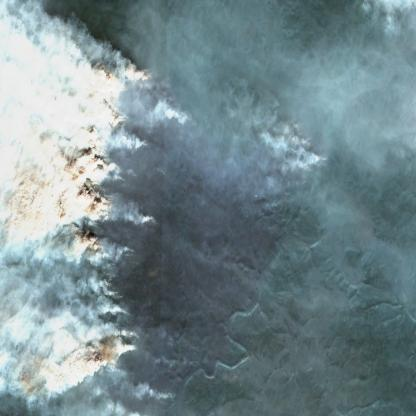fire: (78, 60, 200, 416)
